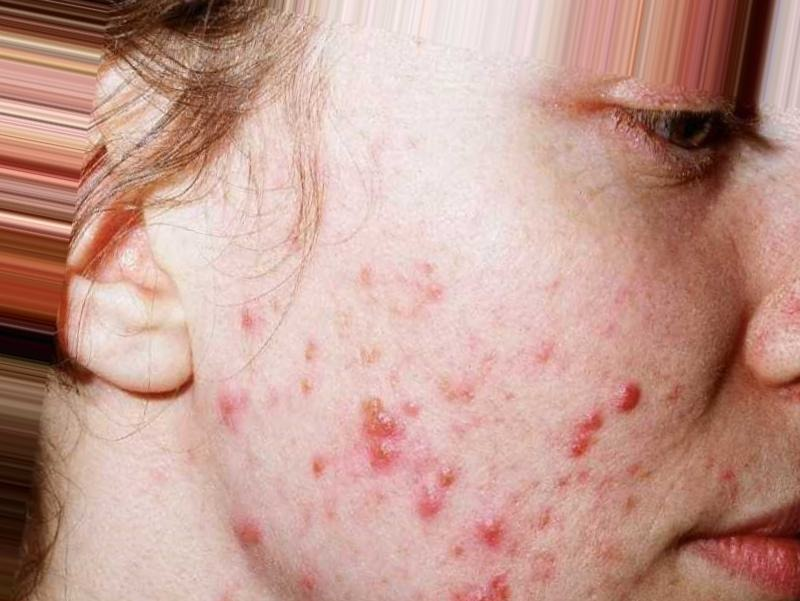Acne: (202, 252, 650, 597)
